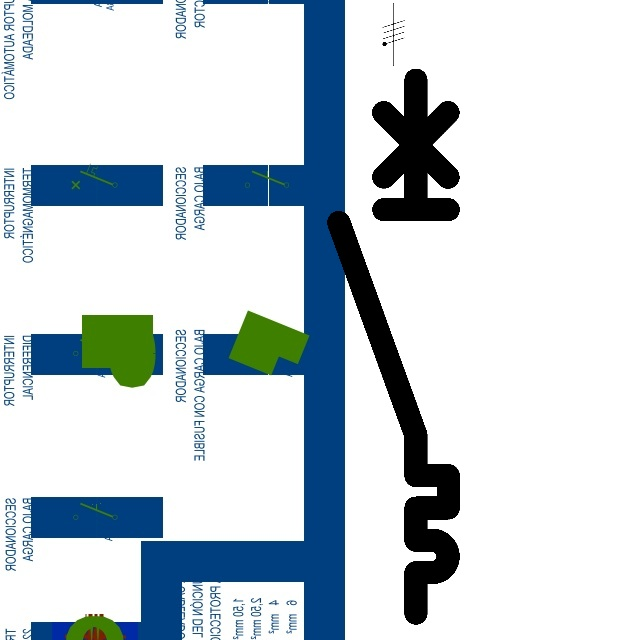interruptor_termomagnetico: (325, 66, 462, 626)
